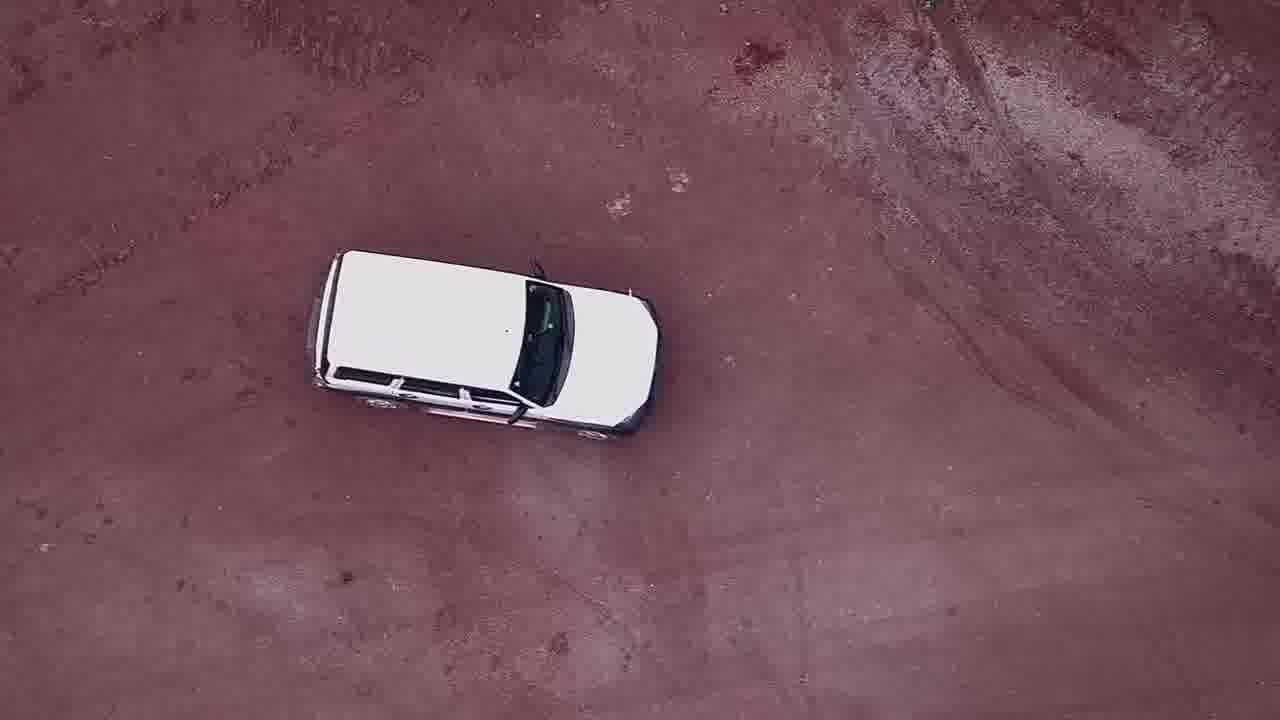light_motor_vehicle: (305, 246, 662, 443)
